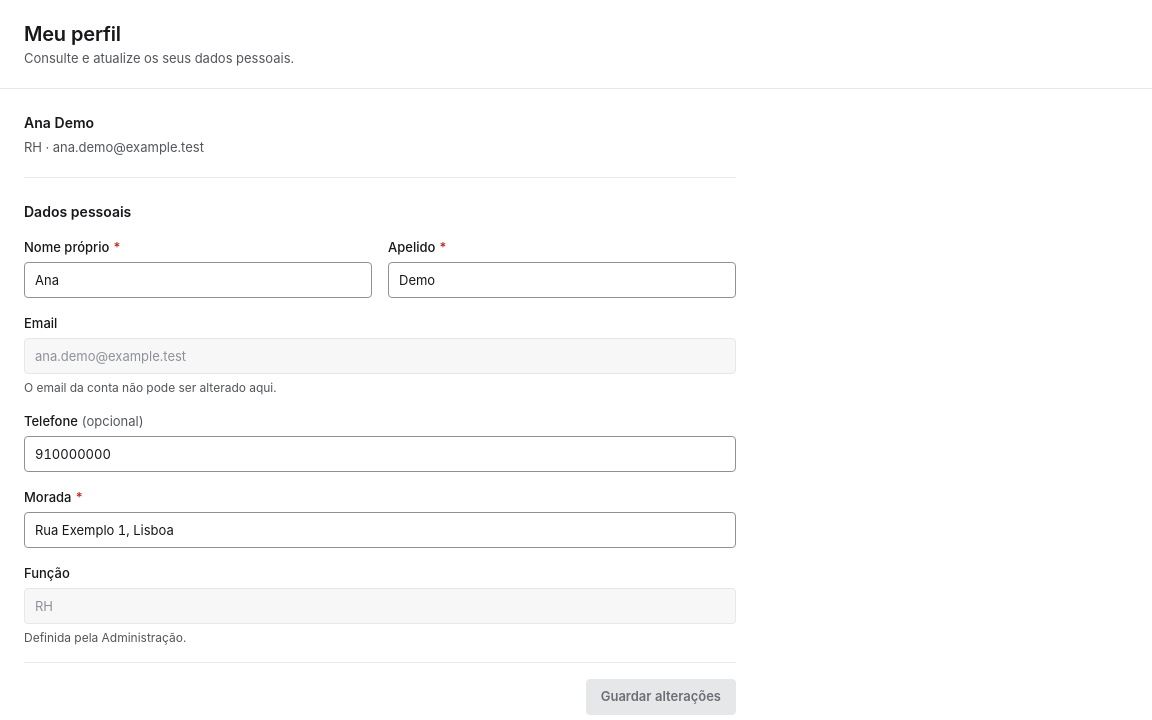
Meu perfil › saves through the existing PUT /api/profile with only the self-editable fields
The width and height of the screenshot is (1152, 720).
Step 1. Replace the text in the field labelled "Telefone (opcional)" with "912345678" → (380,454), box x1=24 y1=436 x2=736 y2=472
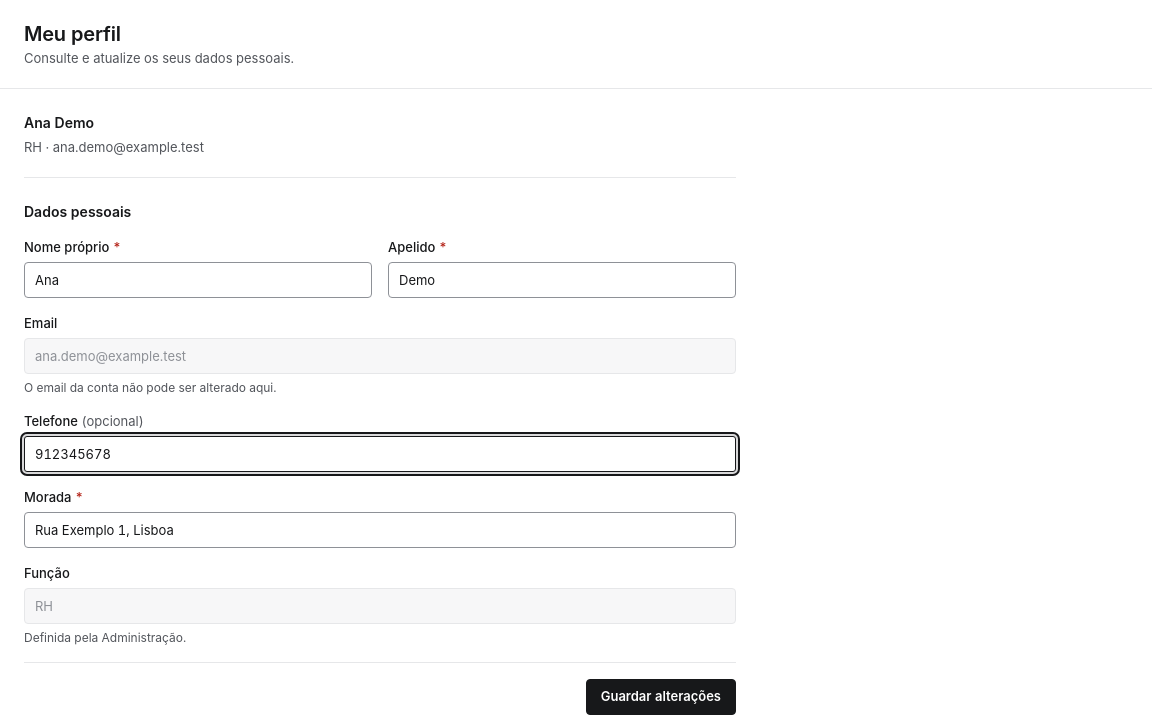
Step 2. Click the button "Guardar alterações" → (661,697), box x1=586 y1=679 x2=736 y2=715
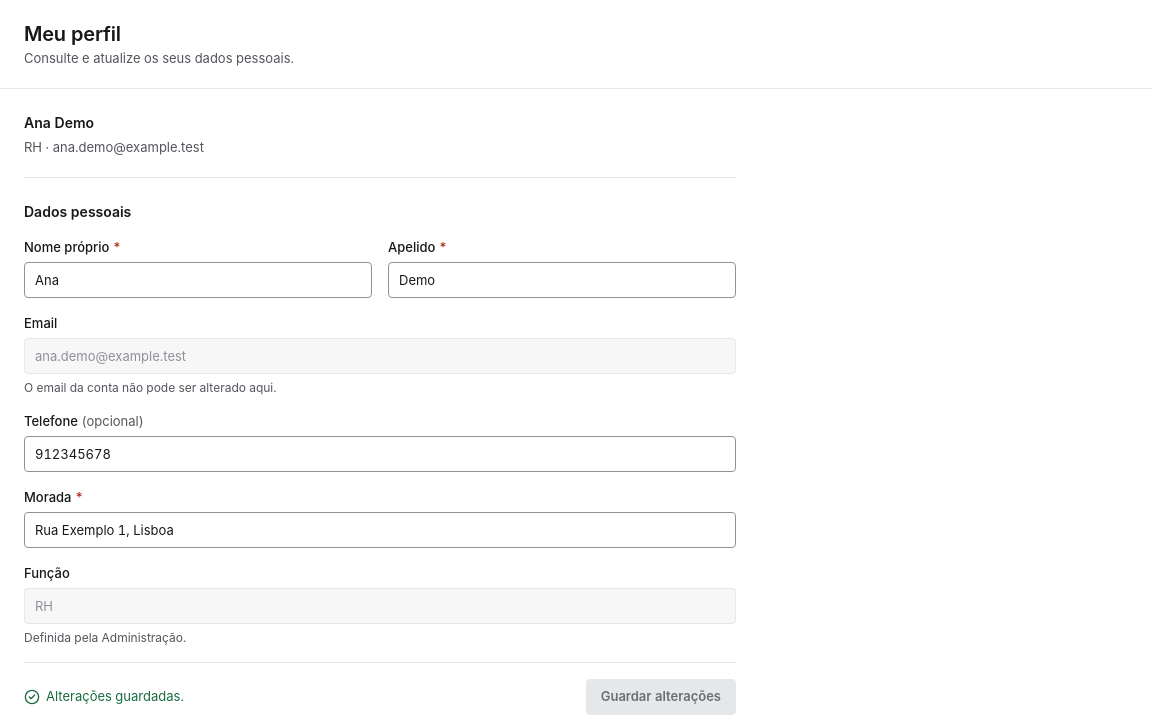
expect the text "Alterações guardadas." is shown: met, box x1=24 y1=687 x2=184 y2=707
